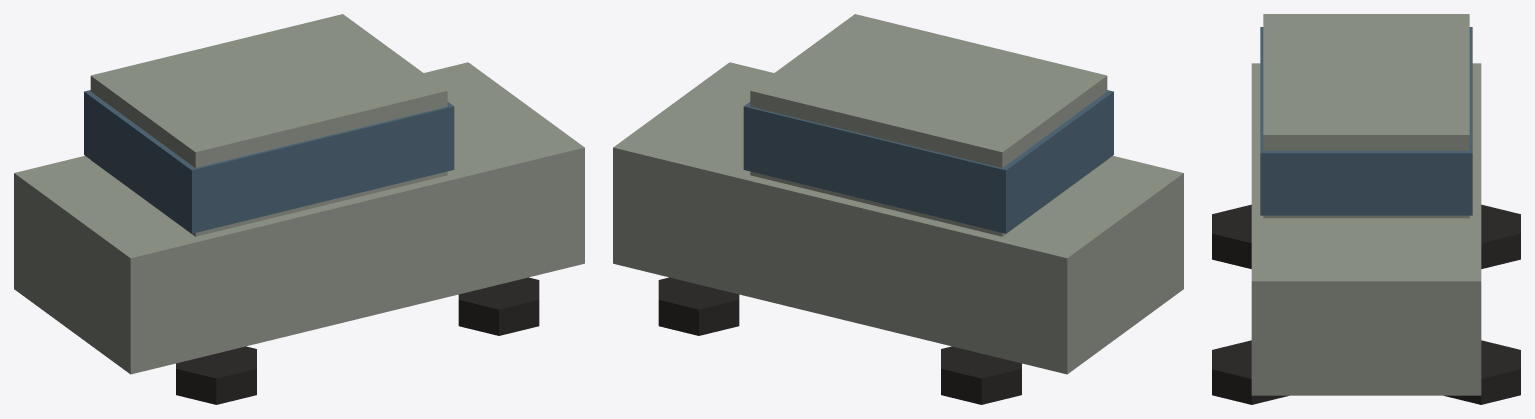
File: parked_car.glb
The picture shows the model from 3 angles, left to right: view 1: azimuth 30°, elevation 25°; view 2: azimuth 150°, elevation 25°; view 3: azimuth 270°, elevation 25°; orthographic projection.
Parts seen in each view (by area): view 1: parked_car_mesh; view 2: parked_car_mesh; view 3: parked_car_mesh.
Boxes of the visible parts, x1,y1,x2,y2 form: parked_car_mesh: [14, 14, 584, 404]; parked_car_mesh: [613, 14, 1183, 404]; parked_car_mesh: [1212, 14, 1520, 404].
Size of the model in its own units: 0.09 by 0.044 by 0.0539.
